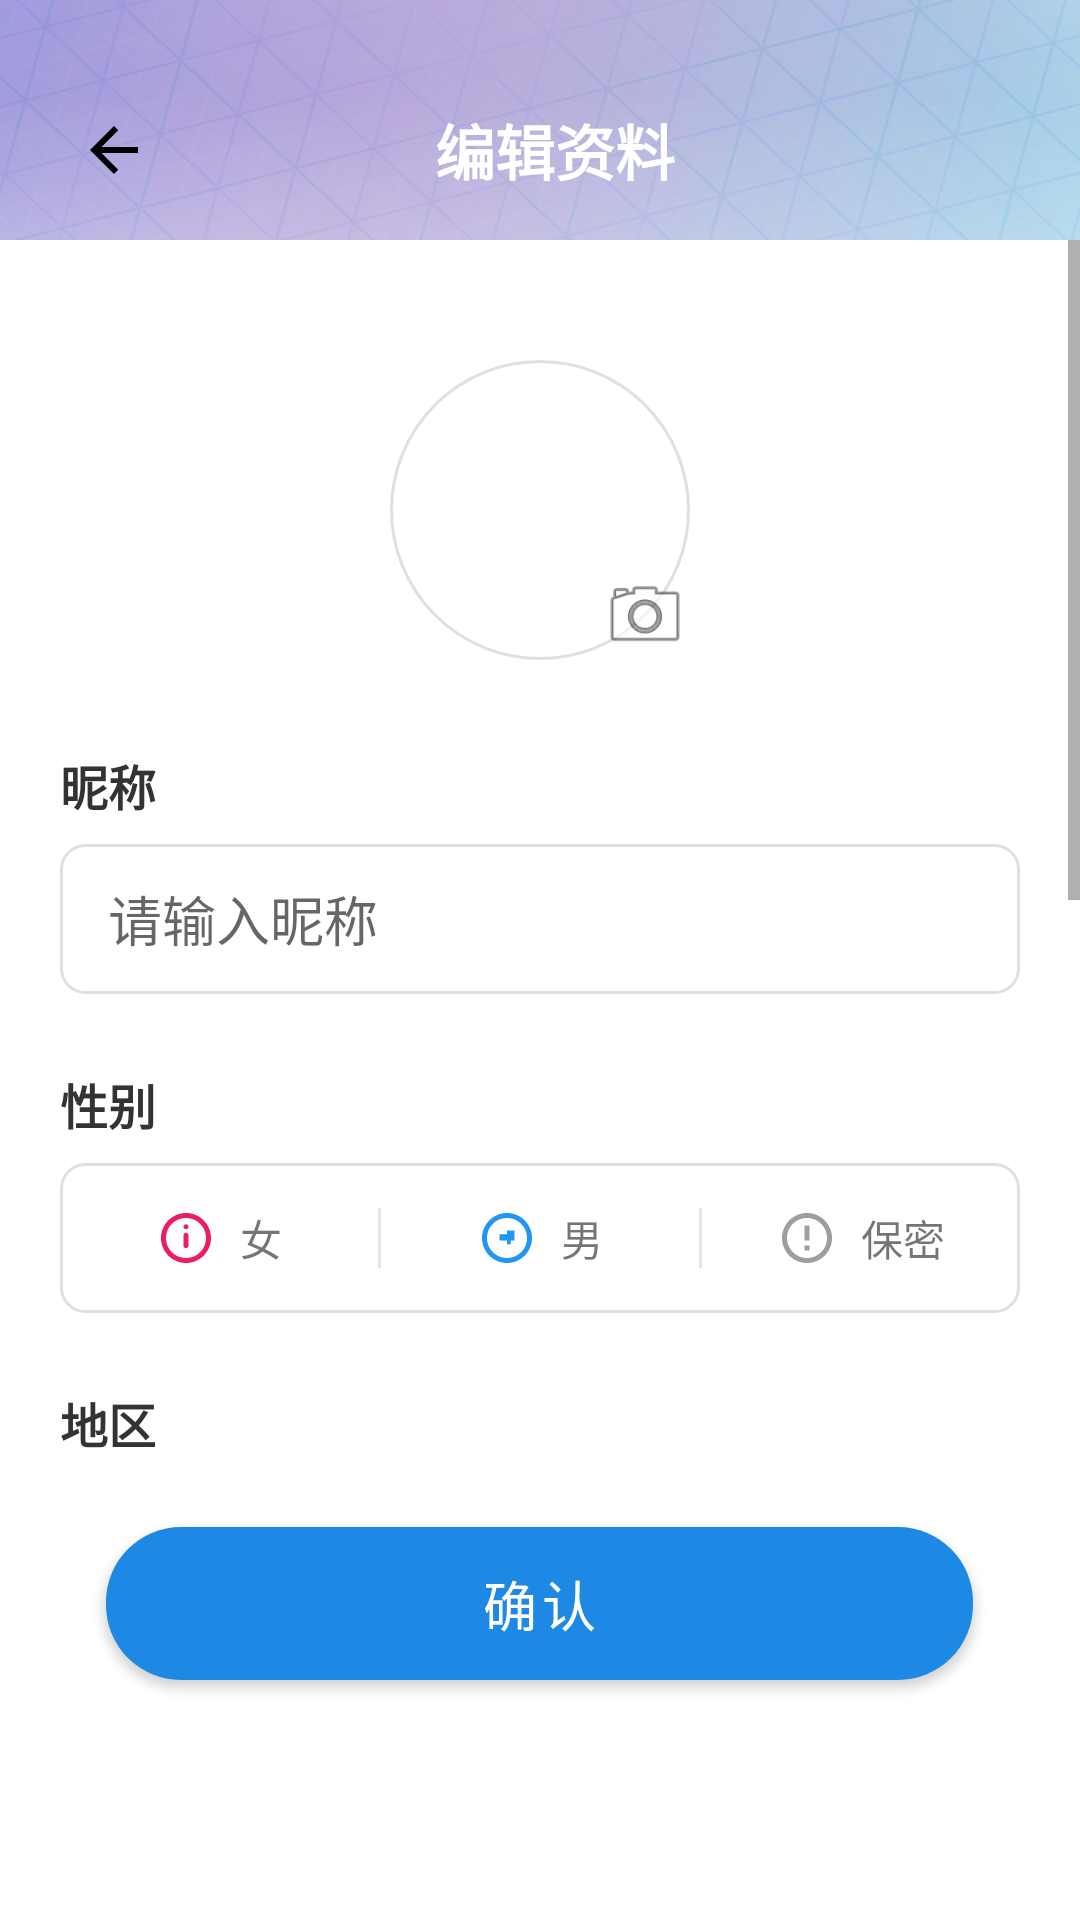

Point at icon controls on the screen. Image size 1080w x 1920h, points as (x=x, y=y).
arrow back: (x=114, y=150)
camera: (x=640, y=608)
